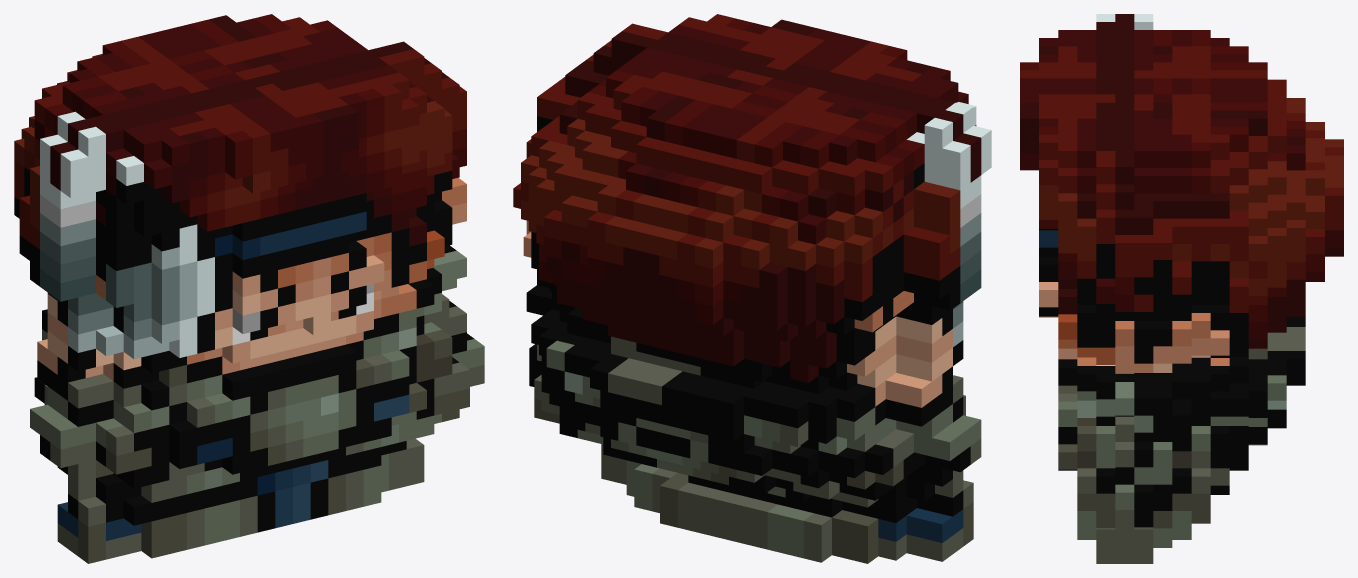
The model's file is Icon_113_02.obj.
3 renders of one model, left to right at view 1: azimuth 30°, elevation 25°; view 2: azimuth 150°, elevation 25°; view 3: azimuth 270°, elevation 25°, orthographic. The views are drawn at different scales.
Bounding box in the file's own units: 2.4 × 2.3 × 1.7.
1 material, 1 textured.
